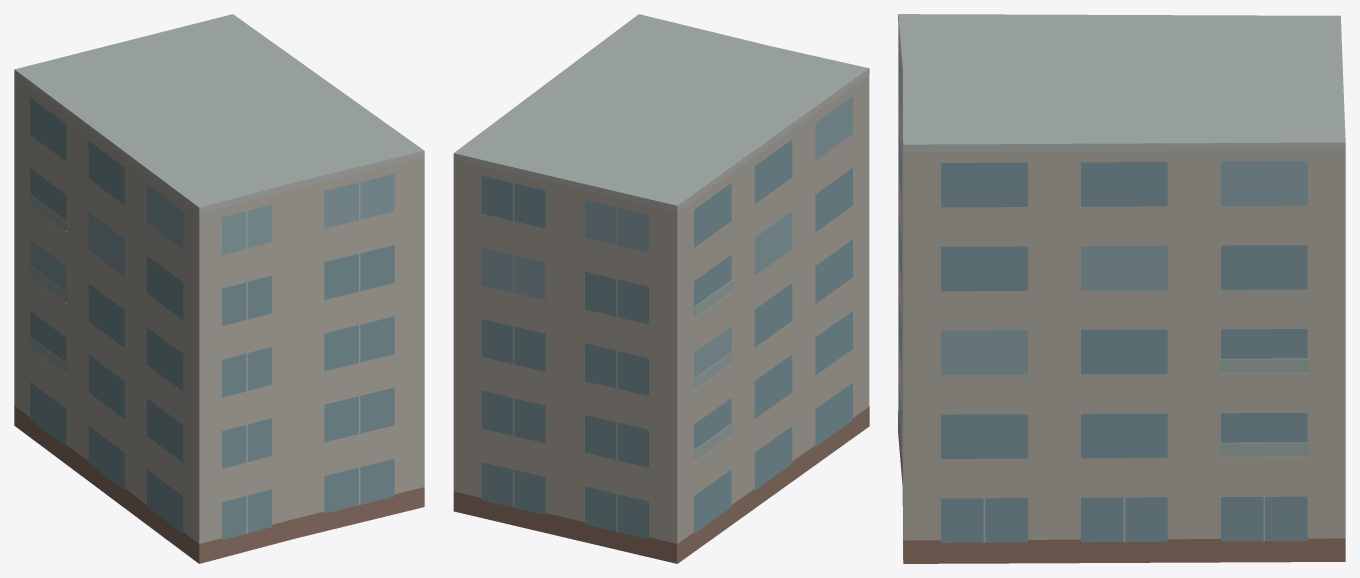
File: survey-upis-32673284.glb
3 renders of one model, left to right at view 1: azimuth 30°, elevation 25°; view 2: azimuth 150°, elevation 25°; view 3: azimuth 270°, elevation 25°, orthographic. The views are drawn at different scales.
Visible parts, largest first — view 1: survey-upis-32673284.tmp; view 2: survey-upis-32673284.tmp; view 3: survey-upis-32673284.tmp.
Boxes of the visible parts, bbox=[...] form: survey-upis-32673284.tmp: bbox=[14, 14, 424, 563]; survey-upis-32673284.tmp: bbox=[453, 14, 869, 563]; survey-upis-32673284.tmp: bbox=[898, 14, 1345, 563].
Size of the model in its own units: 9.52 by 14.24 by 13.78.
